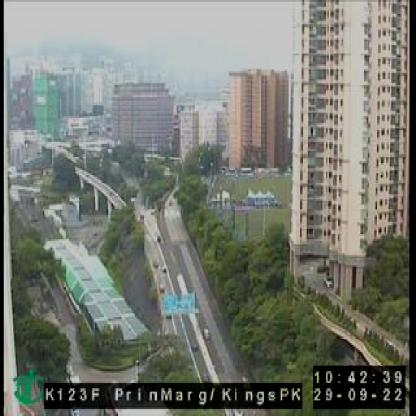Car: (202, 322, 210, 338), (190, 341, 199, 352), (160, 264, 169, 272), (157, 283, 164, 291), (154, 258, 158, 269)
